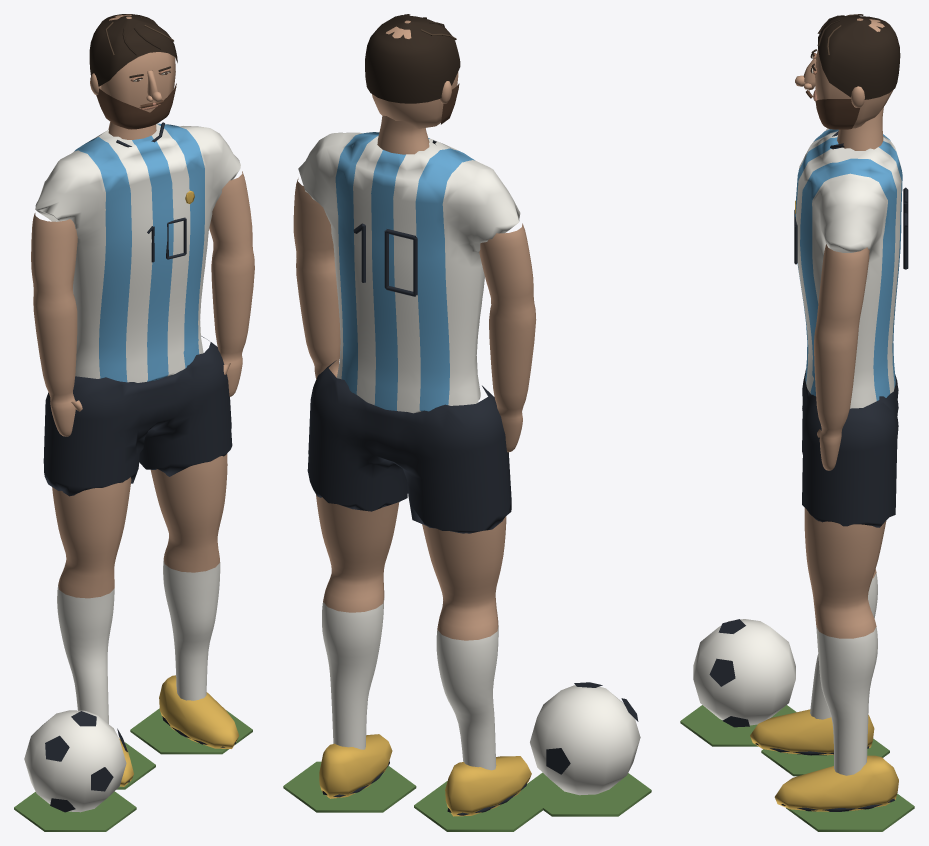
The model's file is messi.glb.
3 views of the same model, side by side, from view 1: azimuth 30°, elevation 25°; view 2: azimuth 150°, elevation 25°; view 3: azimuth 270°, elevation 25° (orthographic). The views are drawn at different scales.
Parts seen in each view (by area): view 1: jersey_white, shorts_ink, jersey_sky, arms_skin, legs_skin, legs_white, football_white, turf_grass, boots_gold, hair_cap_hair, head_skin, beard_beard (+3 smaller); view 2: jersey_white, shorts_ink, jersey_sky, arms_skin, legs_skin, legs_white, turf_grass, football_white, boots_gold, hair_cap_hair, head_skin, neck_skin (+2 smaller); view 3: jersey_white, shorts_ink, arms_skin, football_white, boots_gold, legs_skin, jersey_sky, legs_white, turf_grass, hair_cap_hair, head_skin, neck_skin (+4 smaller).
Part boxes in pixels (<box>): jersey_white: <box>35,124,240,382</box>; shorts_ink: <box>43,336,232,496</box>; jersey_sky: <box>74,123,204,382</box>; arms_skin: <box>31,171,254,436</box>; legs_skin: <box>52,454,227,598</box>; legs_white: <box>57,560,220,723</box>; football_white: <box>24,710,126,812</box>; turf_grass: <box>14,708,252,831</box>; boots_gold: <box>119,675,239,786</box>; hair_cap_hair: <box>89,14,177,86</box>; head_skin: <box>101,14,175,112</box>; beard_beard: <box>96,83,176,129</box>; jersey_white: <box>298,132,520,413</box>; shorts_ink: <box>307,360,511,533</box>; jersey_sky: <box>335,132,474,411</box>; arms_skin: <box>293,178,536,452</box>; legs_skin: <box>316,494,506,640</box>; legs_white: <box>322,598,498,770</box>; turf_grass: <box>283,761,651,831</box>; football_white: <box>530,685,640,795</box>; boots_gold: <box>319,734,531,816</box>; hair_cap_hair: <box>365,15,460,103</box>; head_skin: <box>372,20,458,128</box>; neck_skin: <box>377,115,429,154</box>; jersey_white: <box>796,128,901,408</box>; shorts_ink: <box>802,370,898,527</box>; arms_skin: <box>814,244,869,470</box>; football_white: <box>693,619,795,725</box>; boots_gold: <box>750,709,898,811</box>; legs_skin: <box>804,508,886,638</box>; jersey_sky: <box>795,129,902,400</box>; legs_white: <box>810,573,877,775</box>; turf_grass: <box>680,705,914,831</box>; hair_cap_hair: <box>818,16,900,99</box>; head_skin: <box>815,18,893,128</box>; neck_skin: <box>837,107,883,150</box>.
Bounding box in the file's own units: 0.6539 × 1.7 × 0.4756.
